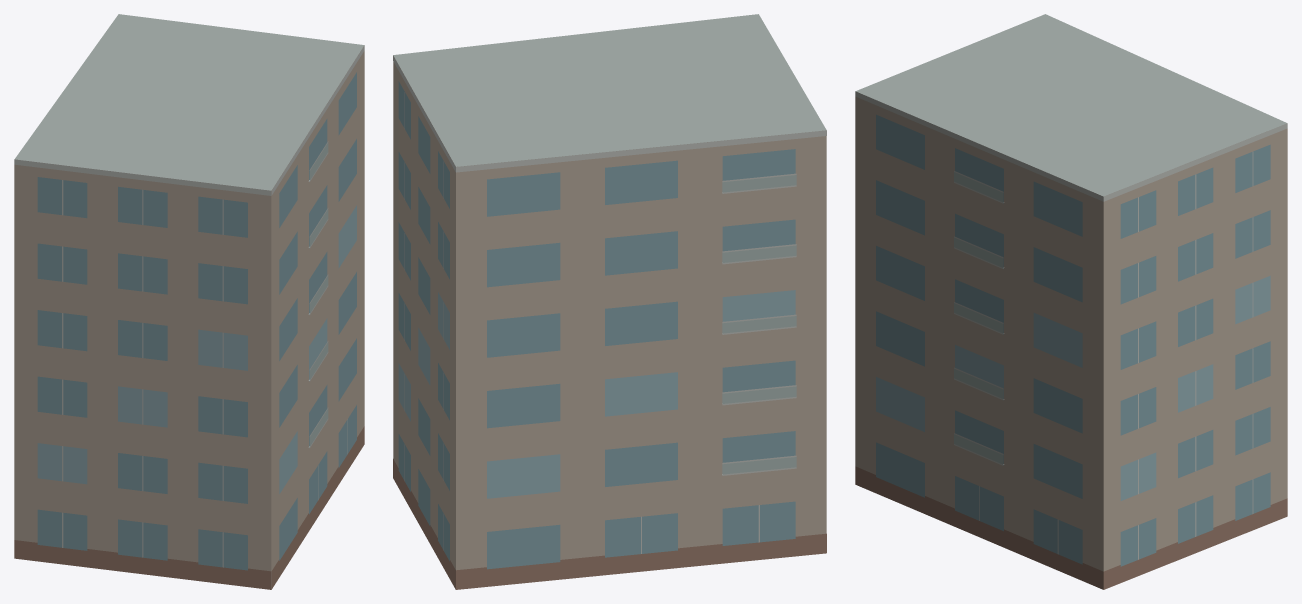
The model's file is survey-upis-32916577.glb.
The picture shows the model from 3 angles, left to right: view 1: azimuth 30°, elevation 25°; view 2: azimuth 150°, elevation 25°; view 3: azimuth 270°, elevation 25°; orthographic projection. The views are drawn at different scales.
Parts seen in each view (by area): view 1: survey-upis-32916577.tmp; view 2: survey-upis-32916577.tmp; view 3: survey-upis-32916577.tmp.
Boxes of the visible parts, x1=… form: survey-upis-32916577.tmp: x1=14, y1=14, x2=364, y2=589; survey-upis-32916577.tmp: x1=393, y1=14, x2=826, y2=589; survey-upis-32916577.tmp: x1=855, y1=14, x2=1287, y2=589.
Size of the model in its own units: 18.22 by 18.3 by 18.23.
